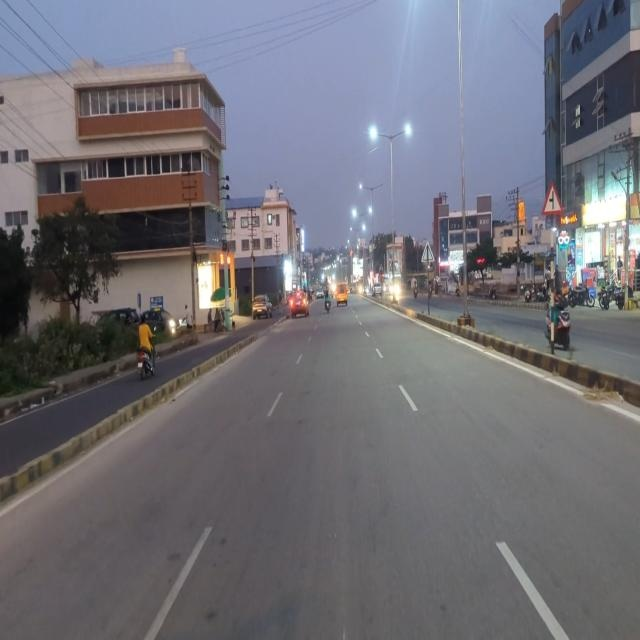bien_nguy_hiem: (542, 179, 564, 216)
